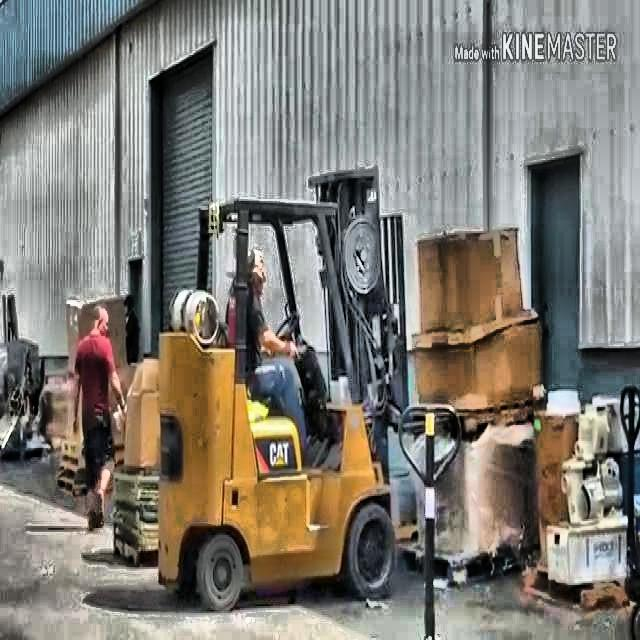bull_dozer/loader/grader: (153, 162, 411, 612)
person: (68, 299, 128, 535)
